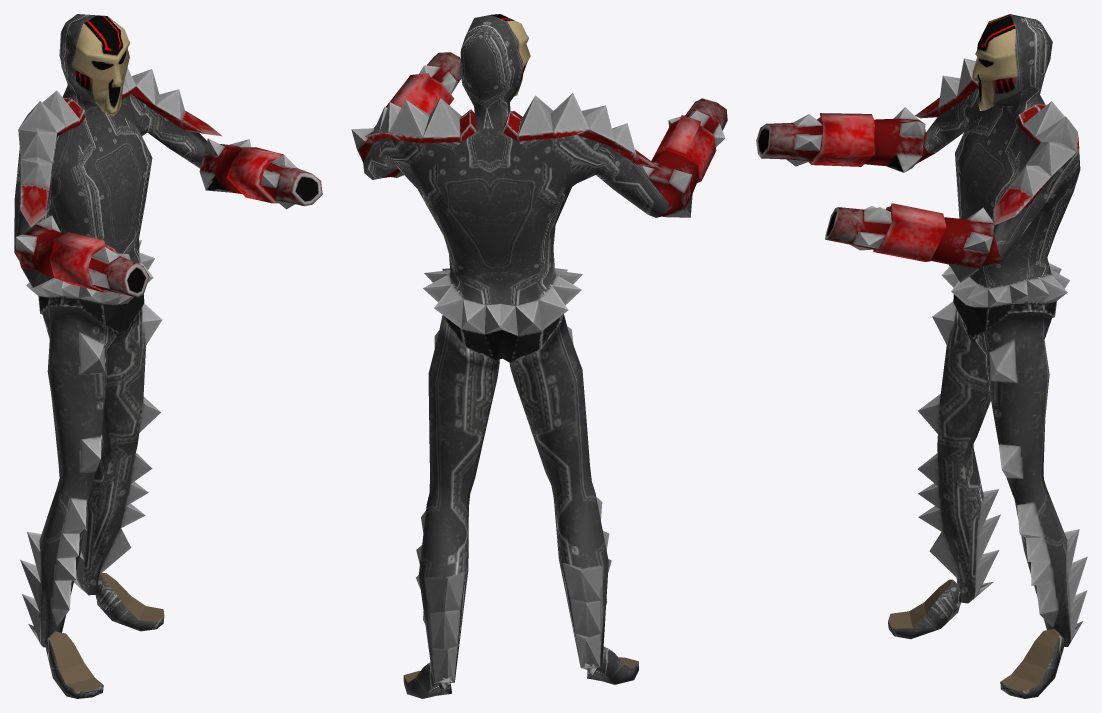
File: kaonov_ranged_soldier.obj
3 views of the same model, side by side, from view 1: azimuth 30°, elevation 25°; view 2: azimuth 150°, elevation 25°; view 3: azimuth 270°, elevation 25° (orthographic). The views are drawn at different scales.
Parts seen in each view (by area): view 1: kaonov_ranged_soldier; view 2: kaonov_ranged_soldier; view 3: kaonov_ranged_soldier.
Part boxes in pixels (x1,y1,x2,y2): kaonov_ranged_soldier: (14,14,322,698); kaonov_ranged_soldier: (351,14,727,698); kaonov_ranged_soldier: (756,14,1087,698).
Bounding box in the file's own units: 14.04 × 30.47 × 14.14.
Materials: 1 (1 with a texture image).
